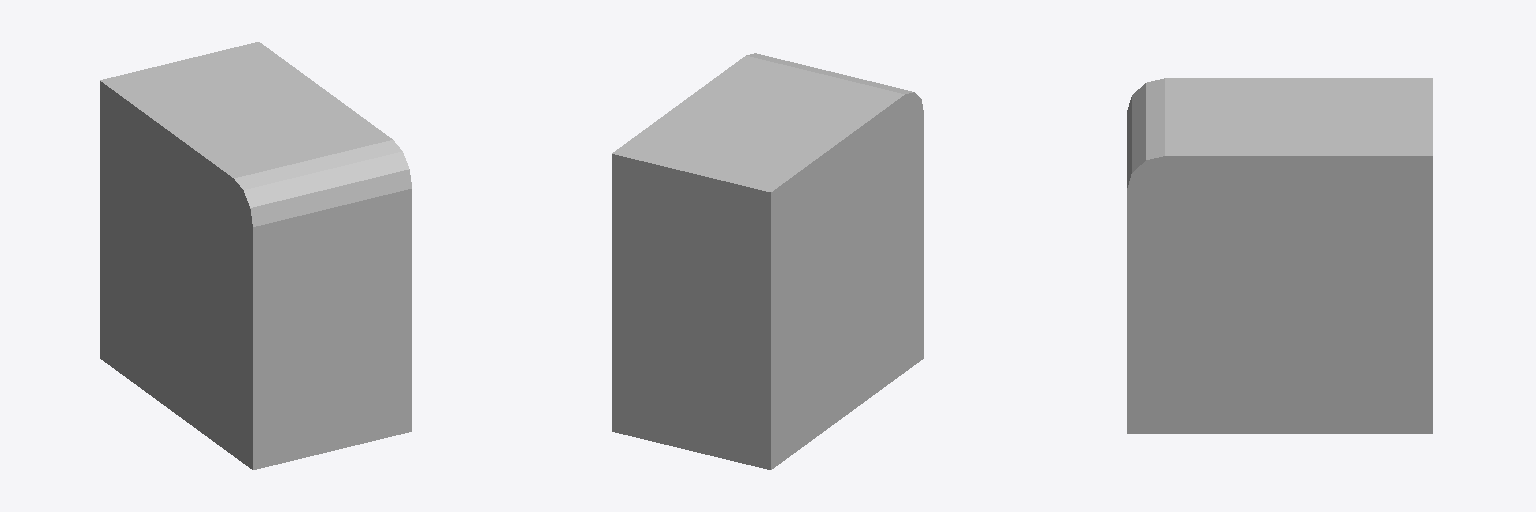
The model's file is Metal Target.obj.
3 views of the same model, side by side, from view 1: azimuth 30°, elevation 25°; view 2: azimuth 150°, elevation 25°; view 3: azimuth 270°, elevation 25° (orthographic).
Parts seen in each view (by area): view 1: Cube; view 2: Cube; view 3: Cube.
Boxes of the visible parts, <box> form: Cube: <box>100,42,411,469</box>; Cube: <box>612,53,923,469</box>; Cube: <box>1127,78,1432,433</box>.
Bounding box in the file's own units: 0.6 × 1 × 1.